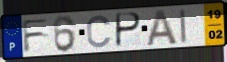6: (52, 14, 78, 54)
A: (145, 8, 180, 48)
C: (86, 14, 113, 49)
F: (20, 17, 51, 54)
I: (179, 8, 188, 45)
P: (114, 11, 143, 49)
